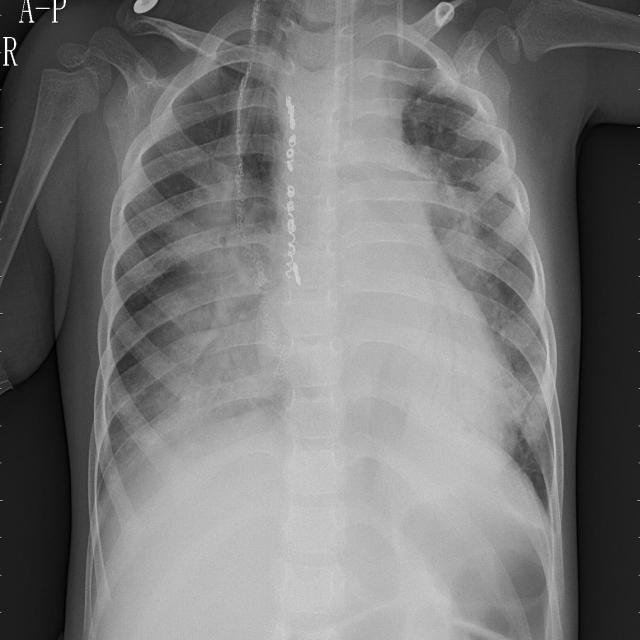high-pneumonia: (139, 55, 285, 435), (400, 119, 512, 347), (501, 361, 562, 504), (379, 34, 462, 136)
